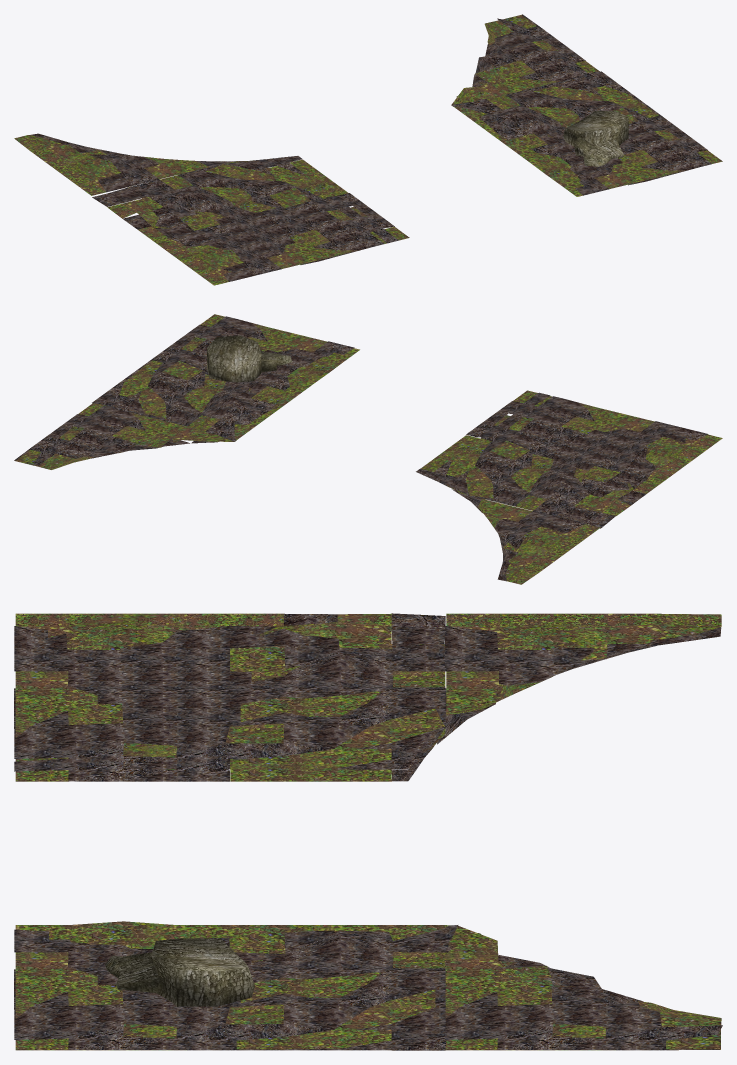
File: Grass.fbx
The picture shows the model from 3 angles, top to bottom: view 1: azimuth 30°, elevation 25°; view 2: azimuth 150°, elevation 25°; view 3: azimuth 270°, elevation 25°; orthographic projection. The views are drawn at different scales.
Visible parts, largest first — view 1: grass01, grass02; view 2: grass01, grass02; view 3: grass01, grass02.
Part boxes in pixels (bbox=[...]): grass01: bbox=[14, 133, 409, 285]; grass02: bbox=[451, 14, 722, 196]; grass01: bbox=[416, 390, 722, 584]; grass02: bbox=[14, 314, 359, 469]; grass01: bbox=[14, 613, 721, 781]; grass02: bbox=[14, 921, 722, 1050].
Bounding box in the file's own units: 35.15 × 1.92 × 24.09.
